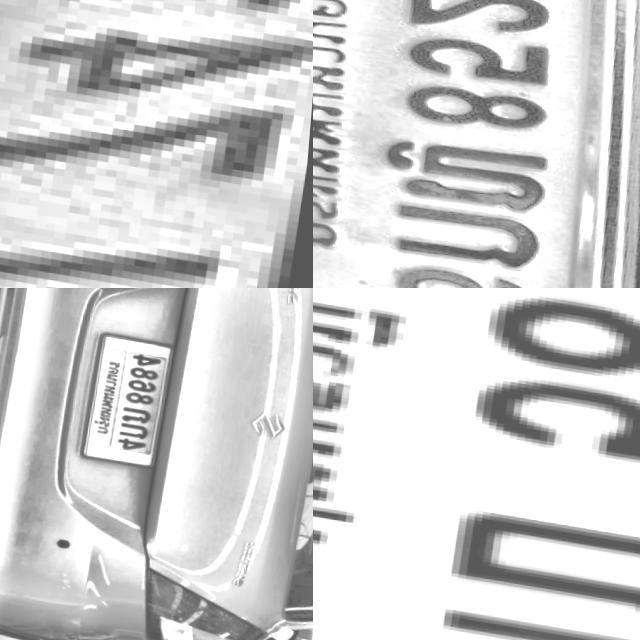license-plate: (313, 288, 640, 640), (313, 0, 640, 288), (0, 0, 313, 288), (85, 324, 182, 465)
